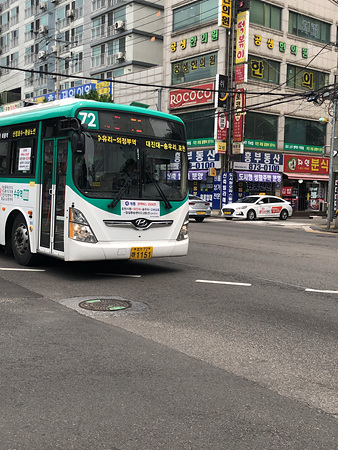entrance: (37, 133, 68, 257)
